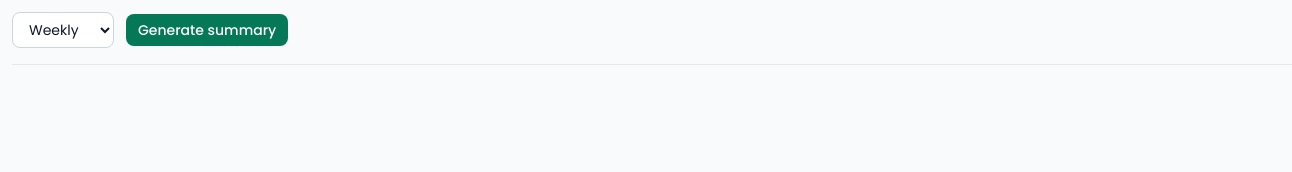
Test: SummaryGenerator › surfaces a failure with an inline error, not a silent no-op
The image size is (1292, 172).
Step 1. Click the button "Generate summary" → coordinates (207, 30), box [126, 14, 288, 46]
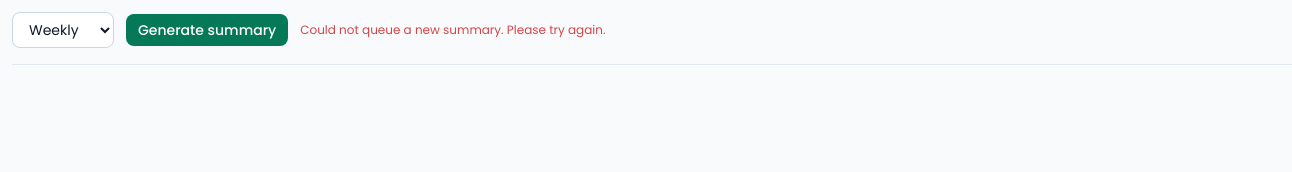
Expected: the message shows "Could not queue", [300, 21, 606, 38]
